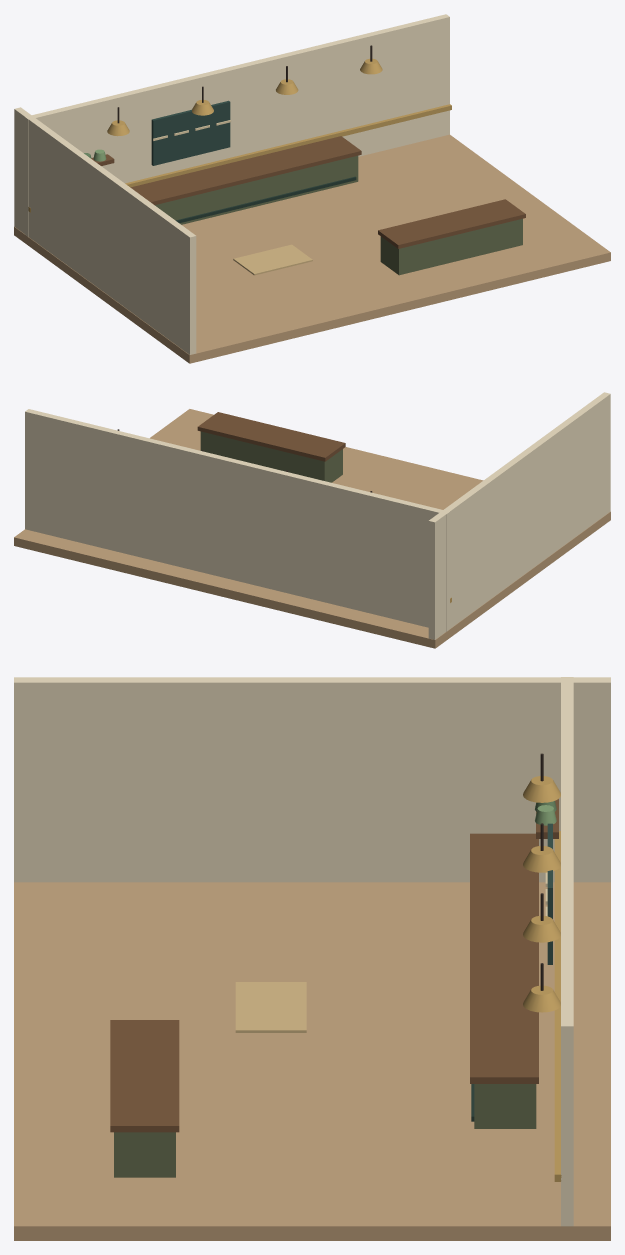
File: cafe-shell-stage-15.glb
3 views of the same model, one above another, from view 1: azimuth 30°, elevation 25°; view 2: azimuth 150°, elevation 25°; view 3: azimuth 270°, elevation 25° (orthographic). The views are drawn at different scales.
Parts seen in each view (by area): view 1: ExpandedFloor, BackWall, SideWall, StraightWalnutTop, StraightMainCounter, ServeCounter, MenuBoard, ServeWalnutTop, WallTrim, CafeRug, BackCounterKickboard; view 2: BackWall, SideWall, ExpandedFloor, ServeWalnutTop, ServeCounter; view 3: ExpandedFloor, SideWall, StraightWalnutTop, ServeWalnutTop, BackWall, CafeRug, PendantShade (×4), ServeCounter, StraightMainCounter, WallTrim.
Part boxes in pixels (x1,y1,x2,y2): ExpandedFloor: (14,134,610,363); BackWall: (25,14,449,236); SideWall: (14,107,196,354); StraightWalnutTop: (130,136,361,205); StraightMainCounter: (155,155,358,224); ServeCounter: (380,218,522,275); MenuBoard: (151,100,230,165); ServeWalnutTop: (378,199,525,248); WallTrim: (28,104,451,212); CafeRug: (233,244,312,275); BackCounterKickboard: (175,176,356,223); BackWall: (25,409,449,631); SideWall: (428,392,610,639); ExpandedFloor: (14,409,610,648); ServeWalnutTop: (197,412,345,461); ServeCounter: (200,431,342,482); ExpandedFloor: (14,882,610,1240); SideWall: (14,677,610,882); StraightWalnutTop: (470,833,538,1083); ServeWalnutTop: (110,1020,179,1132); BackWall: (561,677,573,1226); CafeRug: (235,982,306,1032); PendantShade (×4): (523,776,560,1012); ServeCounter: (114,1132,175,1177); StraightMainCounter: (474,1084,536,1128); WallTrim: (554,831,561,1181).
Bounding box in the file's own units: 18 × 5.16 × 13.
